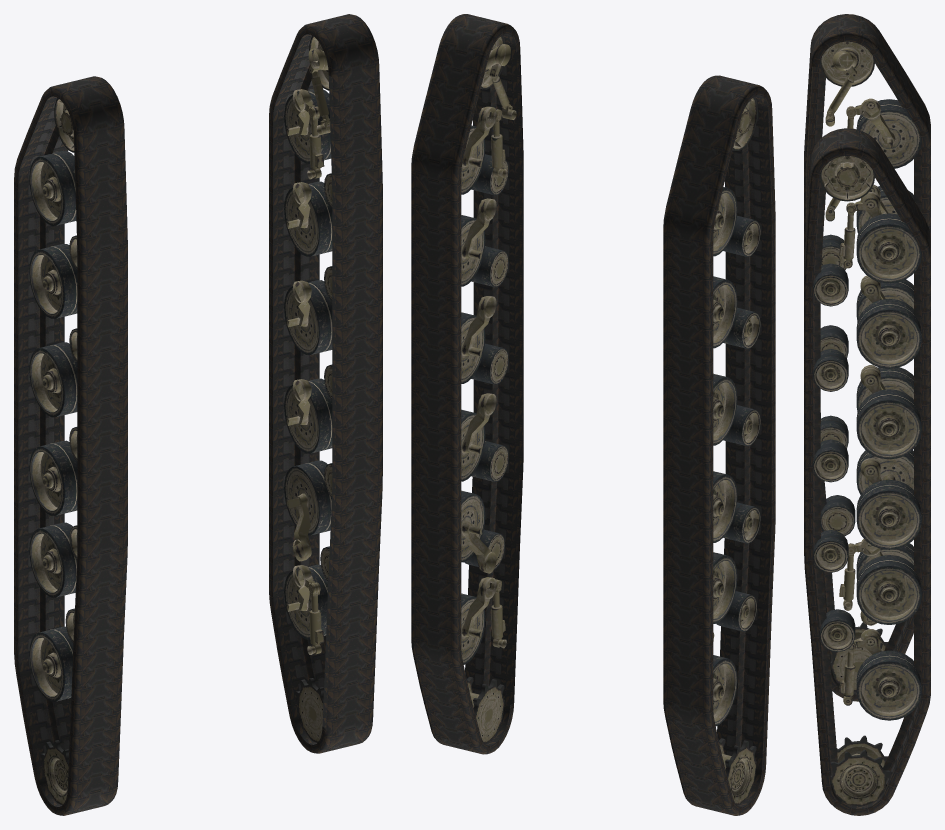
File: Chassis.glb
The picture shows the model from 3 angles, left to right: view 1: azimuth 30°, elevation 25°; view 2: azimuth 150°, elevation 25°; view 3: azimuth 270°, elevation 25°; orthographic projection. The views are drawn at different scales.
Parts seen in each view (by area): view 1: set_0_group_0, set_1_group_0, set_3_group_0, set_2_group_0; view 2: set_0_group_0, set_1_group_0, set_3_group_0, set_2_group_0; view 3: set_3_group_0, set_1_group_0, set_2_group_0, set_0_group_0.
Part boxes in pixels (box(x1,y1,x2,y2)): set_0_group_0: box(14, 76, 127, 815); set_1_group_0: box(269, 14, 382, 753); set_3_group_0: box(284, 36, 332, 742); set_2_group_0: box(29, 98, 77, 804); set_0_group_0: box(663, 75, 775, 815); set_1_group_0: box(411, 14, 523, 754); set_3_group_0: box(461, 35, 516, 743); set_2_group_0: box(713, 97, 760, 805); set_3_group_0: box(813, 156, 921, 806); set_1_group_0: box(804, 128, 930, 815); set_2_group_0: box(820, 41, 921, 691); set_0_group_0: box(804, 14, 930, 701).
Bounding box in the file's own units: 2.85 × 6.59 × 1.13.
4 materials, 4 textured.
